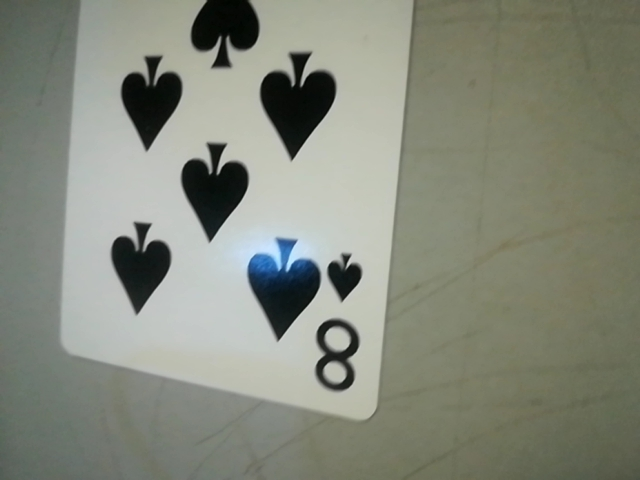ht 8: (304, 241, 377, 411)
